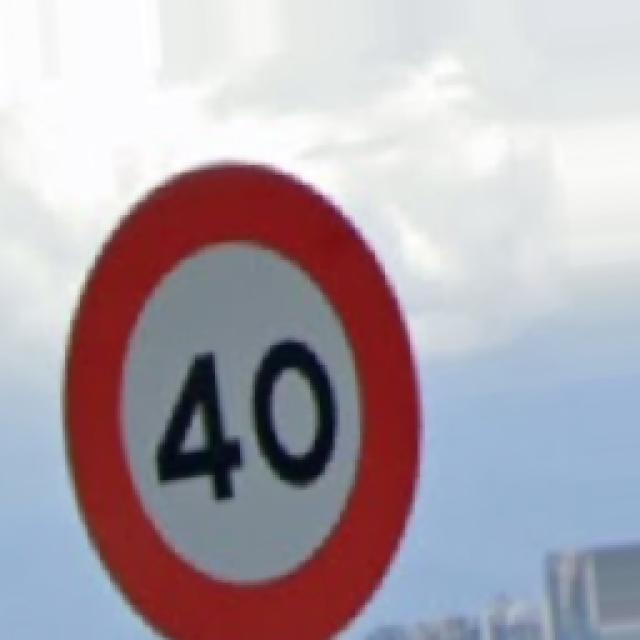Speed Limit -40-: (65, 165, 418, 638)
